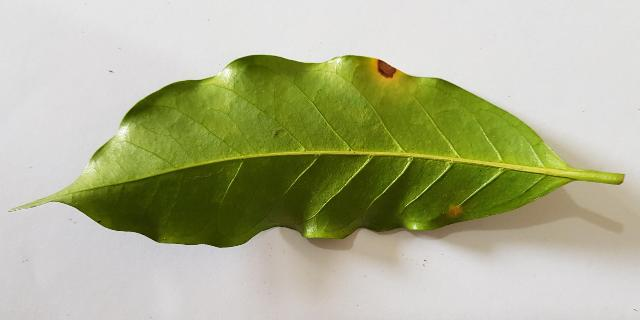miner: (368, 57, 405, 86), (448, 205, 462, 216)
